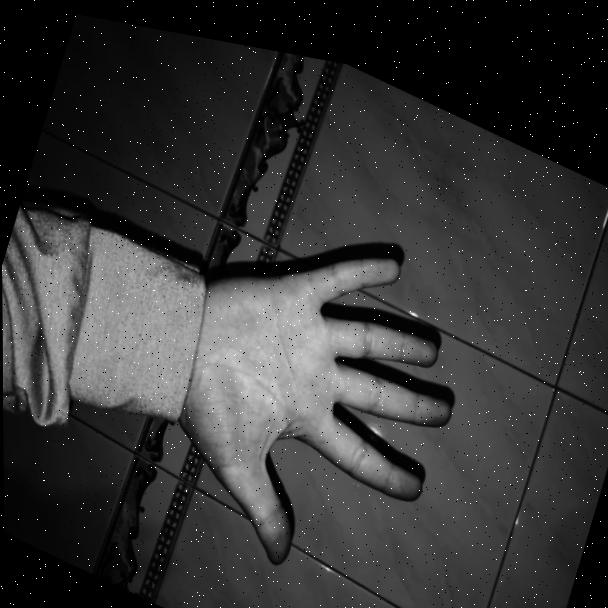five: (127, 139, 491, 608)
